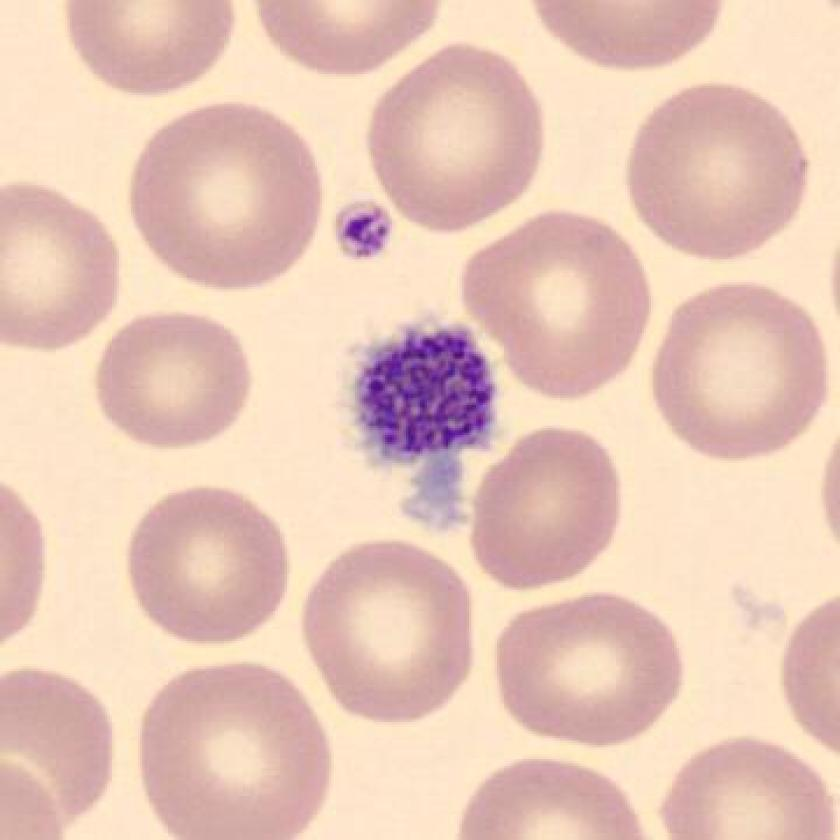platelets: (349, 313, 505, 473), (330, 195, 400, 267)
